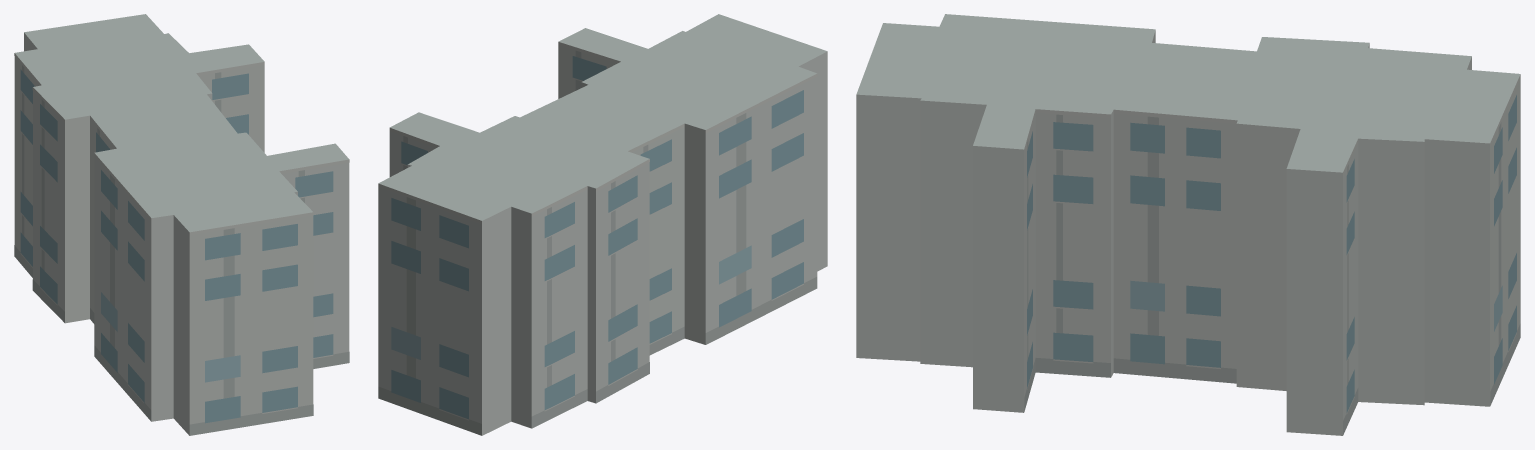
File: survey-upis-32675958.glb
The picture shows the model from 3 angles, left to right: view 1: azimuth 30°, elevation 25°; view 2: azimuth 150°, elevation 25°; view 3: azimuth 270°, elevation 25°; orthographic projection. The views are drawn at different scales.
Parts seen in each view (by area): view 1: survey-upis-32675958.tmp; view 2: survey-upis-32675958.tmp; view 3: survey-upis-32675958.tmp.
Boxes of the visible parts, box(x1,y1,x2,y2) form: survey-upis-32675958.tmp: box(14, 14, 349, 435); survey-upis-32675958.tmp: box(378, 14, 827, 435); survey-upis-32675958.tmp: box(856, 14, 1520, 435).
Bounding box in the file's own units: 20.67 × 16 × 36.59.
